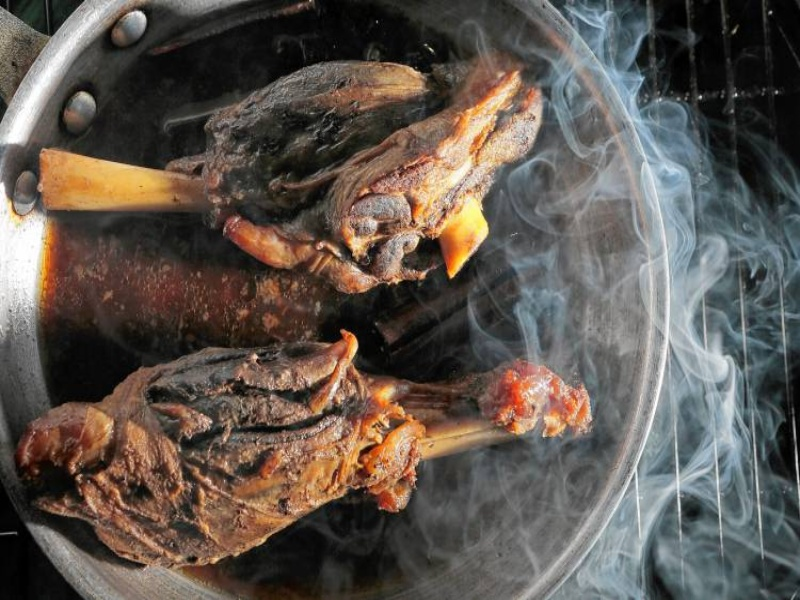smoke: (497, 142, 798, 596)
